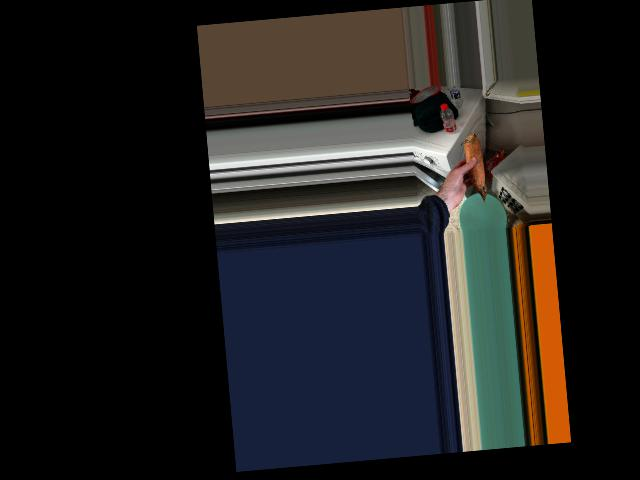sweet_potato: (459, 139, 486, 201)
